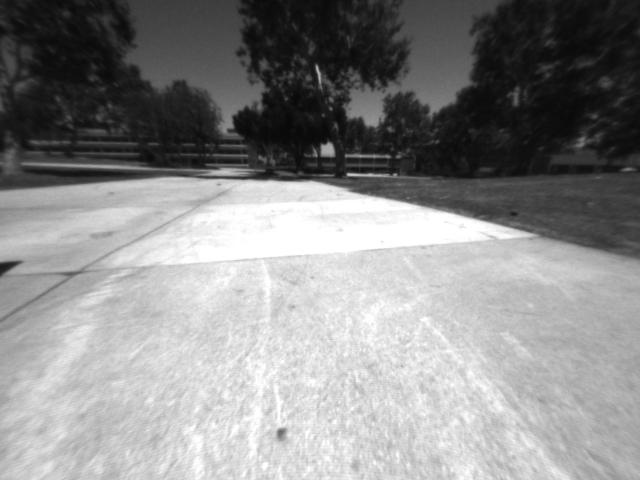dogtoy: (504, 201, 526, 219)
